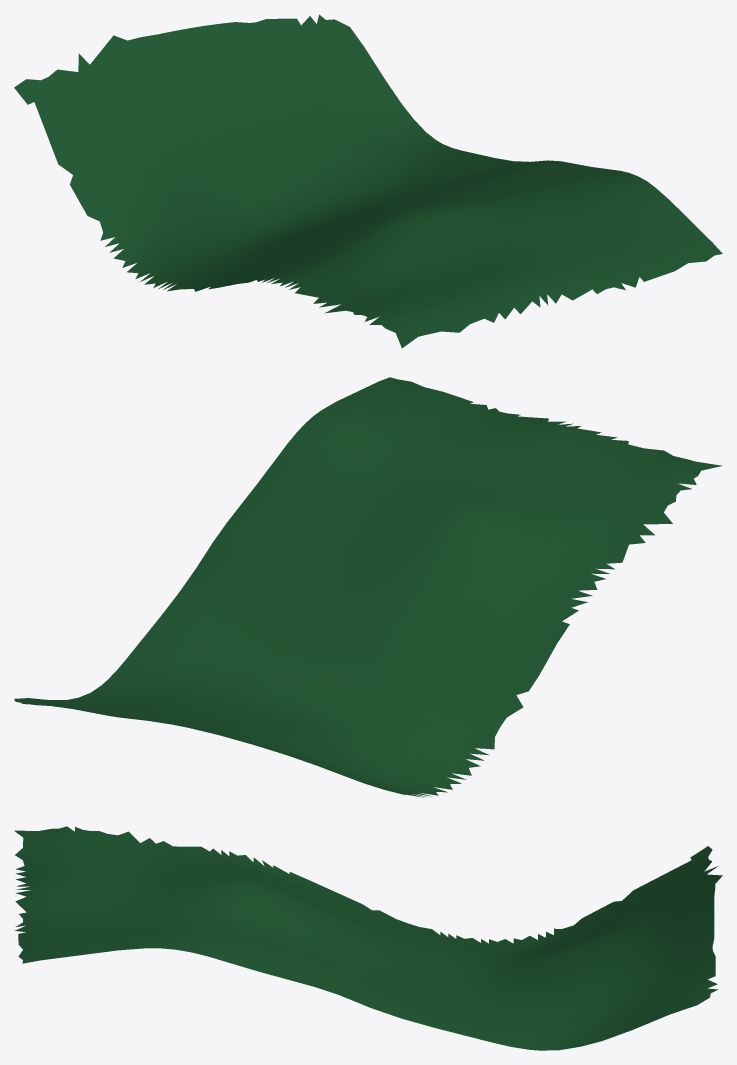
The model's file is payo_land_xm5_y1_lod1.glb.
The picture shows the model from 3 angles, top to bottom: view 1: azimuth 30°, elevation 25°; view 2: azimuth 150°, elevation 25°; view 3: azimuth 270°, elevation 25°; orthographic projection. The views are drawn at different scales.
Visible parts, largest first — view 1: payo_land_xm5_y1; view 2: payo_land_xm5_y1; view 3: payo_land_xm5_y1.
Part boxes in pixels (x1,y1,x2,y2): payo_land_xm5_y1: (14, 14, 722, 348); payo_land_xm5_y1: (14, 377, 722, 797); payo_land_xm5_y1: (14, 826, 722, 1050).
Size of the model in its own units: 131 by 55.73 by 262.
